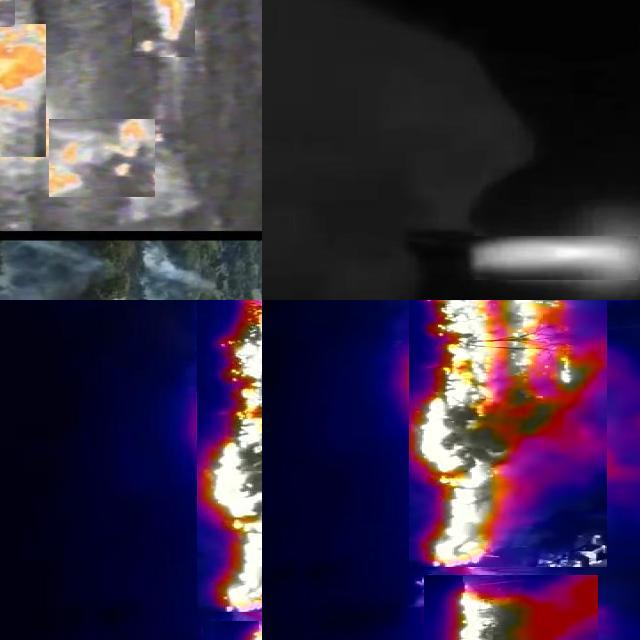fire: (409, 301, 607, 568), (197, 301, 263, 613), (424, 576, 598, 640), (49, 120, 155, 198), (465, 237, 638, 281), (1, 25, 46, 158), (132, 1, 195, 58)
